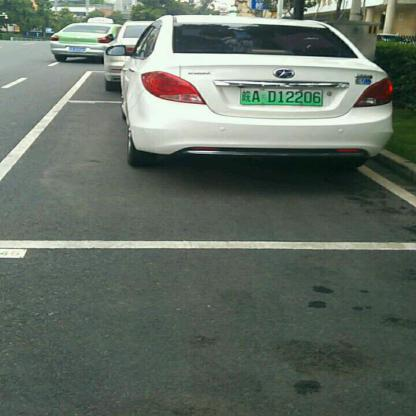lp: (240, 87, 322, 104)
